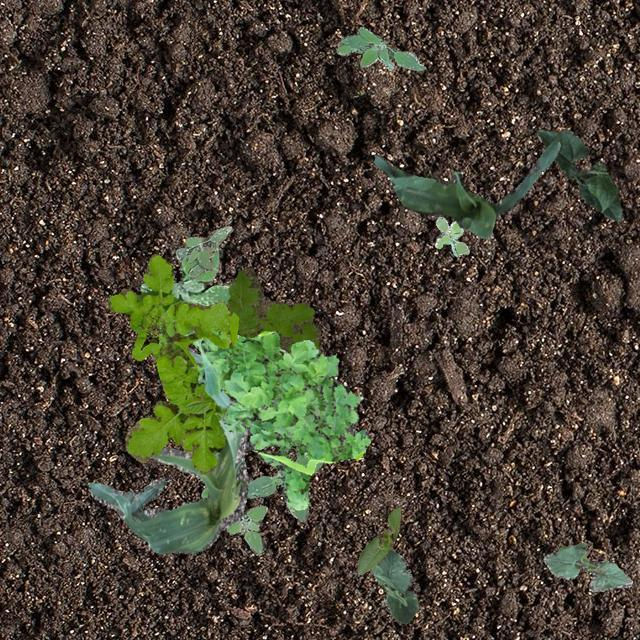crop: (88, 338, 248, 552), (373, 140, 560, 238), (536, 127, 620, 220), (542, 542, 632, 592), (370, 546, 418, 622), (354, 506, 400, 574)
weed: (182, 328, 368, 510), (108, 253, 238, 472), (201, 450, 321, 554), (138, 244, 230, 338), (226, 266, 318, 351), (336, 26, 422, 70), (174, 226, 232, 278), (433, 216, 468, 256)
